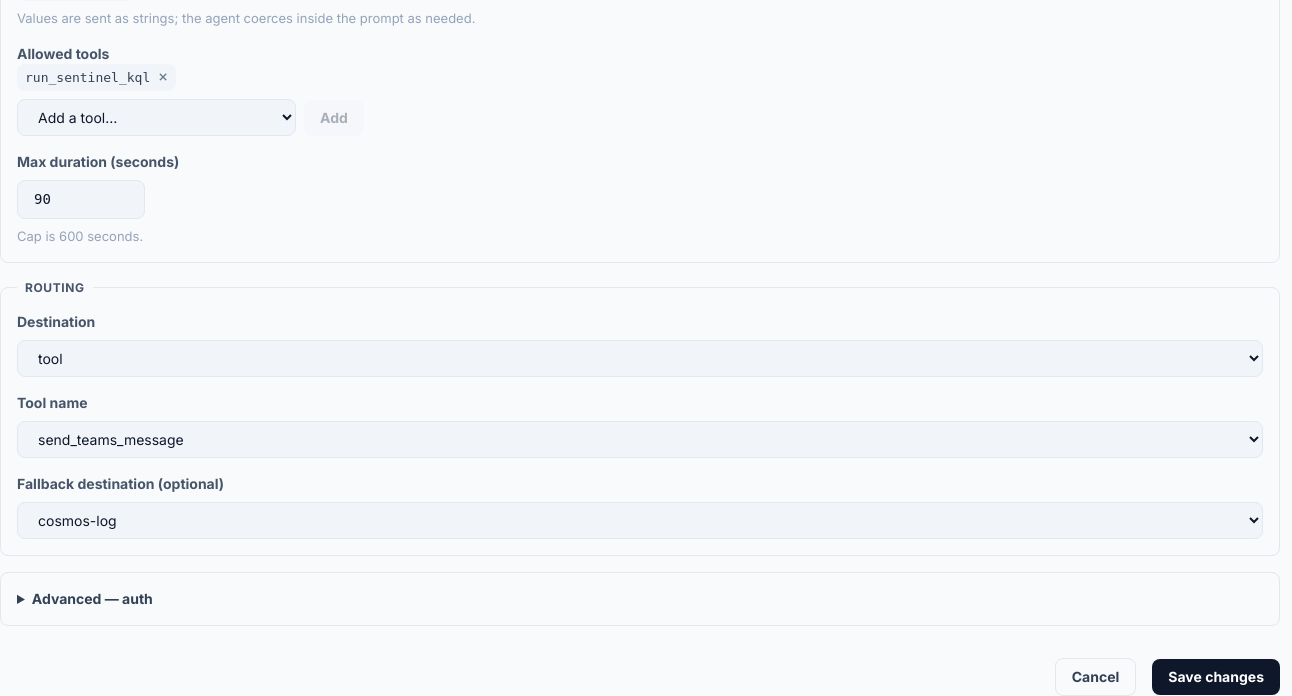
Test case: ScheduledTaskEditor — ultrareview regressions › refuses to PATCH when the loaded task has no _etag
(page scrolled)
Click the button "Save changes".
click(1216, 677)  # box left=1152, top=659, right=1280, bottom=695
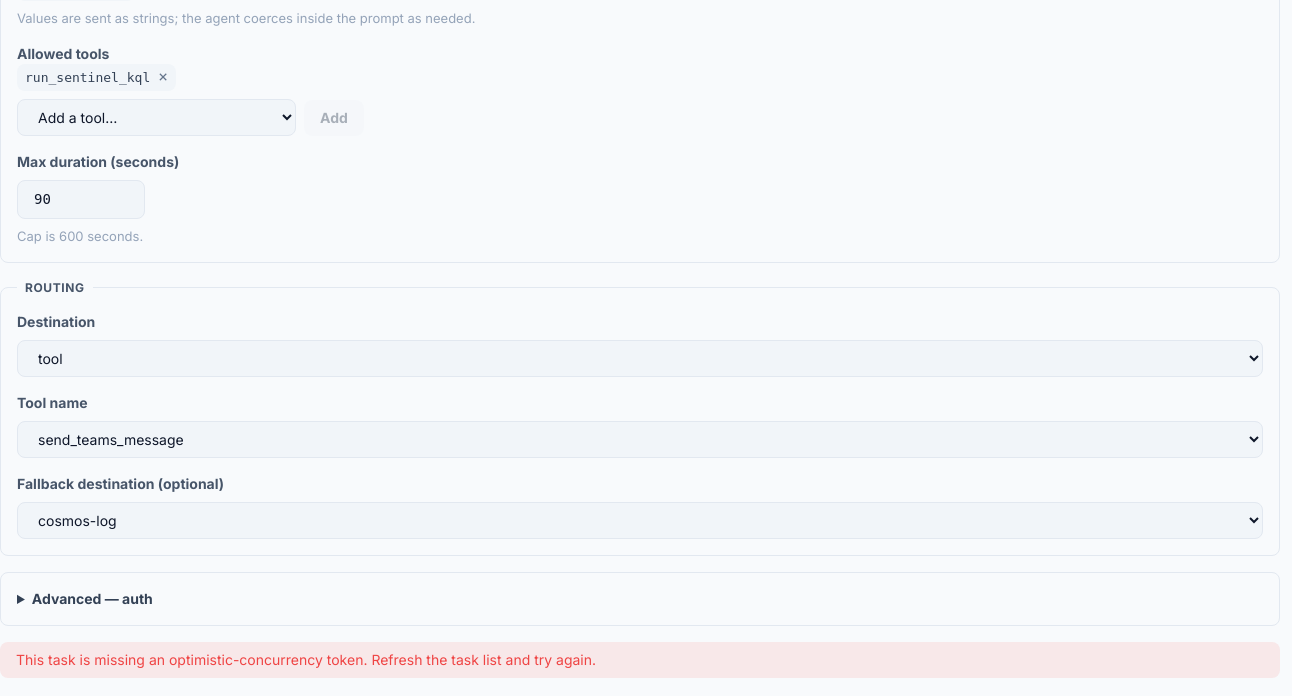
Now the text "optimistic-concurrency token" is shown, box left=16, top=651, right=596, bottom=668
